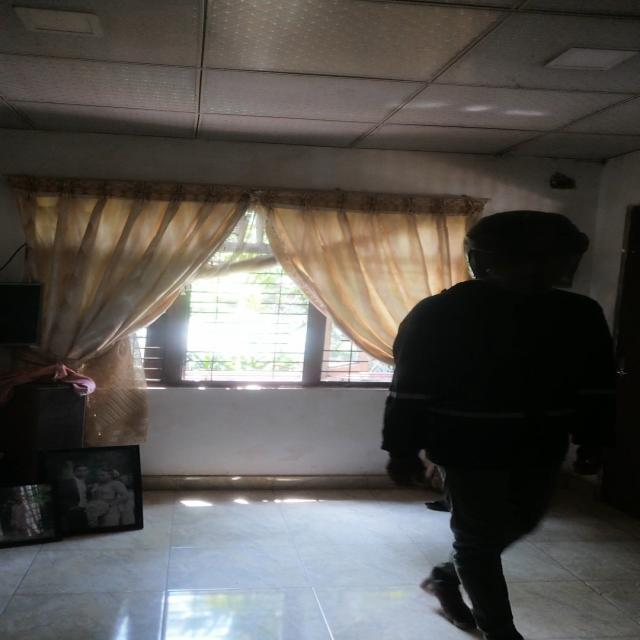Helmet_Wearer: (459, 210, 593, 298)
Jacket_Wearer: (388, 283, 637, 505)
Person: (374, 207, 635, 640)
